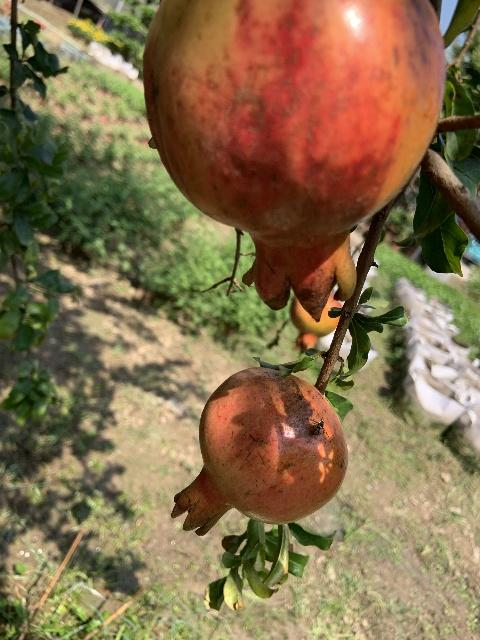ripe: (143, 0, 446, 322), (171, 367, 347, 535), (290, 292, 342, 354)
